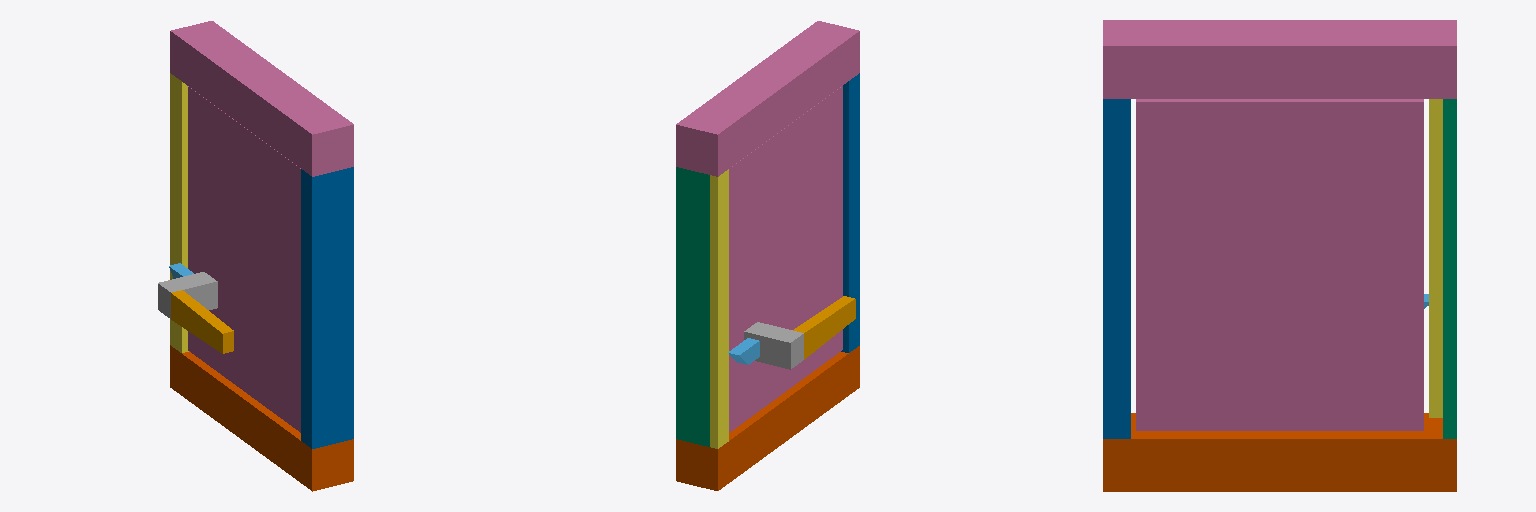
robot.urdf — lumi:
<?xml version="1.0" ?>
<!-- =================================================================================== -->
<!-- |    This document was autogenerated by xacro from [local-path]/project_ws/src/franka_sim/model/robots/robot_door.urdf.xacro | -->
<!-- |    EDITING THIS FILE BY HAND IS NOT RECOMMENDED                                 | -->
<!-- =================================================================================== -->
<robot name="lumi" xmlns:xacro="http://www.ros.org/wiki/xacro">
  <joint name="lumi_joint_base_link" type="fixed">
    <parent link="base_link"/>
    <child link="lumi_link0"/>
    <origin rpy="0 0 0" xyz="-0.4 0.15 0.0"/>
  </joint>
  <link name="lumi_link0">
    <visual>
      <geometry>
        <mesh filename="package://franka_description/meshes/visual/link0.dae"/>
      </geometry>
    </visual>
    <collision>
      <geometry>
        <mesh filename="package://franka_description/meshes/collision/link0.stl"/>
      </geometry>
    </collision>
  </link>
  <link name="lumi_link1">
    <visual>
      <geometry>
        <mesh filename="package://franka_description/meshes/visual/link1.dae"/>
      </geometry>
    </visual>
    <collision>
      <geometry>
        <mesh filename="package://franka_description/meshes/collision/link1.stl"/>
      </geometry>
    </collision>
  </link>
  <joint name="lumi_joint1" type="revolute">
    <safety_controller k_position="100.0" k_velocity="40.0" soft_lower_limit="-2.8973" soft_upper_limit="2.8973"/>
    <origin rpy="0 0 0" xyz="0 0 0.333"/>
    <parent link="lumi_link0"/>
    <child link="lumi_link1"/>
    <axis xyz="0 0 1"/>
    <limit effort="87" lower="-2.8973" upper="2.8973" velocity="2.1750"/>
  </joint>
  <link name="lumi_link2">
    <visual>
      <geometry>
        <mesh filename="package://franka_description/meshes/visual/link2.dae"/>
      </geometry>
    </visual>
    <collision>
      <geometry>
        <mesh filename="package://franka_description/meshes/collision/link2.stl"/>
      </geometry>
    </collision>
  </link>
  <joint name="lumi_joint2" type="revolute">
    <safety_controller k_position="100.0" k_velocity="40.0" soft_lower_limit="-1.7628" soft_upper_limit="1.7628"/>
    <origin rpy="-1.57079632679 0 0" xyz="0 0 0"/>
    <parent link="lumi_link1"/>
    <child link="lumi_link2"/>
    <axis xyz="0 0 1"/>
    <limit effort="87" lower="-1.7628" upper="1.7628" velocity="2.1750"/>
  </joint>
  <link name="lumi_link3">
    <visual>
      <geometry>
        <mesh filename="package://franka_description/meshes/visual/link3.dae"/>
      </geometry>
    </visual>
    <collision>
      <geometry>
        <mesh filename="package://franka_description/meshes/collision/link3.stl"/>
      </geometry>
    </collision>
  </link>
  <joint name="lumi_joint3" type="revolute">
    <safety_controller k_position="100.0" k_velocity="40.0" soft_lower_limit="-2.8973" soft_upper_limit="2.8973"/>
    <origin rpy="1.57079632679 0 0" xyz="0 -0.316 0"/>
    <parent link="lumi_link2"/>
    <child link="lumi_link3"/>
    <axis xyz="0 0 1"/>
    <limit effort="87" lower="-2.8973" upper="2.8973" velocity="2.1750"/>
  </joint>
  <link name="lumi_link4">
    <visual>
      <geometry>
        <mesh filename="package://franka_description/meshes/visual/link4.dae"/>
      </geometry>
    </visual>
    <collision>
      <geometry>
        <mesh filename="package://franka_description/meshes/collision/link4.stl"/>
      </geometry>
    </collision>
  </link>
  <joint name="lumi_joint4" type="revolute">
    <safety_controller k_position="100.0" k_velocity="40.0" soft_lower_limit="-3.0718" soft_upper_limit="-0.0698"/>
    <origin rpy="1.57079632679 0 0" xyz="0.0825 0 0"/>
    <parent link="lumi_link3"/>
    <child link="lumi_link4"/>
    <axis xyz="0 0 1"/>
    <limit effort="87" lower="-3.0718" upper="-0.0698" velocity="2.1750"/>
  </joint>
  <link name="lumi_link5">
    <visual>
      <geometry>
        <mesh filename="package://franka_description/meshes/visual/link5.dae"/>
      </geometry>
    </visual>
    <collision>
      <geometry>
        <mesh filename="package://franka_description/meshes/collision/link5.stl"/>
      </geometry>
    </collision>
  </link>
  <joint name="lumi_joint5" type="revolute">
    <safety_controller k_position="100.0" k_velocity="40.0" soft_lower_limit="-2.8973" soft_upper_limit="2.8973"/>
    <origin rpy="-1.57079632679 0 0" xyz="-0.0825 0.384 0"/>
    <parent link="lumi_link4"/>
    <child link="lumi_link5"/>
    <axis xyz="0 0 1"/>
    <limit effort="12" lower="-2.8973" upper="2.8973" velocity="2.6100"/>
  </joint>
  <link name="lumi_link6">
    <visual>
      <geometry>
        <mesh filename="package://franka_description/meshes/visual/link6.dae"/>
      </geometry>
    </visual>
    <collision>
      <geometry>
        <mesh filename="package://franka_description/meshes/collision/link6.stl"/>
      </geometry>
    </collision>
  </link>
  <joint name="lumi_joint6" type="revolute">
    <safety_controller k_position="100.0" k_velocity="40.0" soft_lower_limit="-0.0175" soft_upper_limit="3.7525"/>
    <origin rpy="1.57079632679 0 0" xyz="0 0 0"/>
    <parent link="lumi_link5"/>
    <child link="lumi_link6"/>
    <axis xyz="0 0 1"/>
    <limit effort="12" lower="-0.0175" upper="3.7525" velocity="2.6100"/>
  </joint>
  <link name="lumi_link7">
    <visual>
      <geometry>
        <mesh filename="package://franka_description/meshes/visual/link7.dae"/>
      </geometry>
    </visual>
    <collision>
      <geometry>
        <mesh filename="package://franka_description/meshes/collision/link7.stl"/>
      </geometry>
    </collision>
  </link>
  <joint name="lumi_joint7" type="revolute">
    <safety_controller k_position="100.0" k_velocity="40.0" soft_lower_limit="-2.8973" soft_upper_limit="2.8973"/>
    <origin rpy="1.57079632679 0 0" xyz="0.088 0 0"/>
    <parent link="lumi_link6"/>
    <child link="lumi_link7"/>
    <axis xyz="0 0 1"/>
    <limit effort="12" lower="-2.8973" upper="2.8973" velocity="2.6100"/>
  </joint>
  <link name="lumi_link8"/>
  <joint name="lumi_joint8" type="fixed">
    <origin rpy="0 0 0" xyz="0 0 0.107"/>
    <parent link="lumi_link7"/>
    <child link="lumi_link8"/>
    <axis xyz="0 0 0"/>
  </joint>
  <joint name="lumi_hand_joint" type="fixed">
    <parent link="lumi_link8"/>
    <child link="lumi_hand"/>
    <origin rpy="0 0 -0.785398163397" xyz="0 0 0"/>
  </joint>
  <link name="lumi_hand">
    <visual>
      <geometry>
        <mesh filename="package://franka_description/meshes/visual/hand.dae"/>
      </geometry>
    </visual>
    <collision>
      <geometry>
        <mesh filename="package://franka_description/meshes/collision/hand.stl"/>
      </geometry>
    </collision>
  </link>
  <link name="lumi_leftfinger">
    <visual>
      <geometry>
        <mesh filename="package://franka_description/meshes/visual/finger.dae"/>
      </geometry>
    </visual>
    <collision>
      <geometry>
        <mesh filename="package://franka_description/meshes/collision/finger.stl"/>
      </geometry>
    </collision>
  </link>
  <link name="lumi_rightfinger">
    <visual>
      <origin rpy="0 0 3.14159265359" xyz="0 0 0"/>
      <geometry>
        <mesh filename="package://franka_description/meshes/visual/finger.dae"/>
      </geometry>
    </visual>
    <collision>
      <origin rpy="0 0 3.14159265359" xyz="0 0 0"/>
      <geometry>
        <mesh filename="package://franka_description/meshes/collision/finger.stl"/>
      </geometry>
    </collision>
  </link>
  <joint name="lumi_finger_joint1" type="prismatic">
    <parent link="lumi_hand"/>
    <child link="lumi_leftfinger"/>
    <origin rpy="0 0 0" xyz="0 0 0.0584"/>
    <axis xyz="0 1 0"/>
    <limit effort="20" lower="0.0" upper="0.04" velocity="0.2"/>
  </joint>
  <joint name="lumi_finger_joint2" type="prismatic">
    <parent link="lumi_hand"/>
    <child link="lumi_rightfinger"/>
    <origin rpy="0 0 0" xyz="0 0 0.0584"/>
    <axis xyz="0 -1 0"/>
    <limit effort="20" lower="0.0" upper="0.04" velocity="0.2"/>
    <mimic joint="lumi_finger_joint1"/>
  </joint>
  <mujoco>
    <compiler balanceinertia="true" discardvisual="false" meshdir="../meshes/"/>
  </mujoco>
  <link name="base_link"/>
  <link name="door_base"/>
  <joint name="door_base_joint" type="fixed">
    <!-- <origin xyz="0.0 0.0 0.052" rpy="0 0 ${pi}"/> -->
    <origin rpy="0 0 -1.57079632679" xyz="0.4 0.25 0.052"/>
    <parent link="base_link"/>
    <child link="door_base"/>
  </joint>
  <link name="door">
    <visual>
      <geometry>
        <mesh filename="package://franka_sim/model/meshes/door_v4_bin.stl" scale="0.001 0.001 0.001"/>
      </geometry>
    </visual>
    <collision>
      <geometry>
        <mesh filename="package://franka_sim/model/meshes/door_v4_bin.stl" scale="0.001 0.001 0.001"/>
      </geometry>
    </collision>
  </link>
  <joint name="door_hinge" type="revolute">
    <origin rpy="0 0 0" xyz="0.005 0.005 0.005"/>
    <limit effort="10" lower="0" upper="1.57079632679" velocity="10"/>
    <parent link="door_base"/>
    <child link="door"/>
  </joint>
  <link name="handle_core">
    <visual>
      <geometry>
        <mesh filename="package://franka_sim/model/meshes/handle_v4_core_bin.stl" scale="0.001 0.001 0.001"/>
      </geometry>
    </visual>
    <collision>
      <geometry>
        <mesh filename="package://franka_sim/model/meshes/handle_v4_core_bin.stl" scale="0.001 0.001 0.001"/>
      </geometry>
    </collision>
  </link>
  <joint name="handle_core" type="revolute">
    <origin rpy="0 0 0" xyz="0.052 -0.06 0.095"/>
    <limit effort="10" lower="0" upper="0.523598775598" velocity="10"/>
    <parent link="door"/>
    <child link="handle_core"/>
  </joint>
  <link name="handle_beam">
    <visual>
      <geometry>
        <mesh filename="package://franka_sim/model/meshes/handle_v4_beam_bin.stl" scale="0.001 0.001 0.001"/>
      </geometry>
    </visual>
    <collision>
      <geometry>
        <mesh filename="package://franka_sim/model/meshes/handle_v4_beam_bin.stl" scale="0.001 0.001 0.001"/>
      </geometry>
    </collision>
  </link>
  <joint name="handle_beam_joint" type="fixed">
    <origin rpy="0 0 0" xyz="0.015 0.0 -0.0165"/>
    <parent link="handle_core"/>
    <child link="handle_beam"/>
  </joint>
  <link name="handle_latch">
    <visual>
      <geometry>
        <mesh filename="package://franka_sim/model/meshes/handle_v4_latch_bin.stl" scale="0.001 0.001 0.001"/>
      </geometry>
    </visual>
    <collision>
      <geometry>
        <mesh filename="package://franka_sim/model/meshes/handle_v4_latch_bin.stl" scale="0.001 0.001 0.001"/>
      </geometry>
    </collision>
  </link>
  <joint name="handle_latch_joint" type="fixed">
    <origin rpy="0 0 0" xyz="-0.015 0.04 -0.01"/>
    <parent link="handle_core"/>
    <child link="handle_latch"/>
  </joint>
  <link name="frame_left">
    <visual>
      <geometry>
        <mesh filename="package://franka_sim/model/meshes/frame_v4_leftpillar_back_bin.stl" scale="0.001 0.001 0.001"/>
      </geometry>
    </visual>
    <collision>
      <geometry>
        <mesh filename="package://franka_sim/model/meshes/frame_v4_leftpillar_back_bin.stl" scale="0.001 0.001 0.001"/>
      </geometry>
    </collision>
  </link>
  <joint name="frame_left_joint" type="fixed">
    <origin rpy="0 0 0" xyz="-0.025 0.01 0.0"/>
    <parent link="door_base"/>
    <child link="frame_left"/>
  </joint>
  <link name="frame_left_front">
    <visual>
      <geometry>
        <mesh filename="package://franka_sim/model/meshes/frame_v4_leftpillar_front_bin.stl" scale="0.001 0.001 0.001"/>
      </geometry>
    </visual>
    <collision>
      <geometry>
        <mesh filename="package://franka_sim/model/meshes/frame_v4_leftpillar_front_bin.stl" scale="0.001 0.001 0.001"/>
      </geometry>
    </collision>
  </link>
  <joint name="frame_left_front_joint" type="fixed">
    <origin rpy="0 0 0" xyz="-0.025 0.0 0.0"/>
    <parent link="door_base"/>
    <child link="frame_left_front"/>
  </joint>
  <link name="frame_right">
    <visual>
      <geometry>
        <mesh filename="package://franka_sim/model/meshes/frame_v4_rightpillar_bin.stl" scale="0.001 0.001 0.001"/>
      </geometry>
    </visual>
    <collision>
      <geometry>
        <mesh filename="package://franka_sim/model/meshes/frame_v4_rightpillar_bin.stl" scale="0.001 0.001 0.001"/>
      </geometry>
    </collision>
  </link>
  <joint name="frame_right_joint" type="fixed">
    <origin rpy="0 0 0" xyz="0.267 0.0 0.0"/>
    <parent link="door_base"/>
    <child link="frame_right"/>
  </joint>
  <link name="frame_bottom">
    <visual>
      <geometry>
        <mesh filename="package://franka_sim/model/meshes/frame_v4_top_bottom_bin.stl" scale="0.001 0.001 0.001"/>
      </geometry>
    </visual>
    <collision>
      <geometry>
        <mesh filename="package://franka_sim/model/meshes/frame_v4_top_bottom_bin.stl" scale="0.001 0.001 0.001"/>
      </geometry>
    </collision>
  </link>
  <joint name="frame_bottom_joint" type="fixed">
    <origin rpy="0 0 0" xyz="-0.025 0.0 -0.052"/>
    <parent link="door_base"/>
    <child link="frame_bottom"/>
  </joint>
  <link name="frame_top">
    <visual>
      <geometry>
        <mesh filename="package://franka_sim/model/meshes/frame_v4_top_bottom_bin.stl" scale="0.001 0.001 0.001"/>
      </geometry>
    </visual>
    <collision>
      <geometry>
        <mesh filename="package://franka_sim/model/meshes/frame_v4_top_bottom_bin.stl" scale="0.001 0.001 0.001"/>
      </geometry>
    </collision>
  </link>
  <joint name="frame_top_joint" type="fixed">
    <origin rpy="0 0 0" xyz="-0.025 0.0 0.335"/>
    <parent link="door_base"/>
    <child link="frame_top"/>
  </joint>
</robot>
<!-- <asset>
        <mesh file="stl/frame_v4_leftpillar_back_bin.stl" name="frame_left"/>
        <mesh file="stl/frame_v4_leftpillar_front_bin.stl" name="frame_left_front"/>
        <mesh file="stl/frame_v4_rightpillar_bin.stl" name="frame_right"/>
        <mesh file="stl/frame_v4_top_bottom_bin.stl" name="frame_top_bottom"/>
        <mesh file="stl/door_v4_bin.stl" name="door"/>
        <mesh file="stl/handle_v4_beam_bin.stl" name="handle_beam"/>
        <mesh file="stl/handle_v4_latch_bin.stl" name="handle_latch"/>
        <mesh file="stl/handle_v4_core_bin.stl" name="handle_core"/>
</asset> -->
<!-- <body pos="0 0 0">
    <body name="door" pos="5 5 5">
        <body name="handle_core" pos="52 -60 95">
            <body name="handle_beam" pos="15 0 -16.5">
            </body>
            <body name="handle_latch" pos="-15 40 -10">
            </body>
        </body>    
    </body>          
    <body name="frame_left" pos="-25 10 0">
    </body>
    <body name="frame_left_front" pos="-25 0 0">
    </body>
    <body name="frame_right" pos="267 0 0">
    </body>
    <body name="frame_bottom" pos="-25 0 -52">
    </body>
    <body name="frame_top" pos="-25 0 335">
    </body>
</body>    -->

--- Facts derived from the render (not from the file) ---
Views: 3 orthographic renders of the robot side by side, from view 1: azimuth 30°, elevation 25°; view 2: azimuth 150°, elevation 25°; view 3: azimuth 270°, elevation 25°.
Model lumi with 23 links and 22 joints (9 revolute, 2 prismatic, 11 fixed), rooted at base_link, posed all joints at 0 but 1 set to mid-range because 0 is outside their limits (lumi_joint4 = -1.57).
Visible links, largest first — view 1: door, frame_right, frame_top, frame_bottom, frame_left_front, handle_beam, handle_core; view 2: door, frame_top, frame_left, frame_bottom, frame_left_front, frame_right, handle_core, handle_beam, handle_latch; view 3: door, frame_top, frame_bottom, frame_right, frame_left, frame_left_front.
Boxes of the visible links, x1,y1,x2,y2 form: door: (188, 86, 300, 432); frame_right: (301, 167, 353, 448); frame_top: (170, 21, 353, 176); frame_bottom: (170, 345, 353, 491); frame_left_front: (170, 73, 188, 352); handle_beam: (171, 290, 233, 353); handle_core: (158, 272, 217, 318); door: (729, 86, 842, 432); frame_top: (676, 21, 859, 176); frame_left: (676, 167, 709, 446); frame_bottom: (676, 346, 859, 490); frame_left_front: (710, 169, 728, 448); frame_right: (841, 73, 859, 352); handle_core: (744, 322, 803, 369); handle_beam: (793, 296, 855, 359); handle_latch: (728, 338, 759, 364); door: (1136, 99, 1423, 430); frame_top: (1103, 20, 1456, 98); frame_bottom: (1103, 413, 1456, 491); frame_right: (1103, 99, 1130, 438); frame_left: (1443, 99, 1456, 438); frame_left_front: (1429, 99, 1442, 417).
Size in the robot's own frame: 0.109 by 0.317 by 0.439 metres.
Meshes: 18 distinct files referenced, 9 mesh visuals loaded (8 binary STL); not drawn: 11 (reference not matched to a file when rendering).